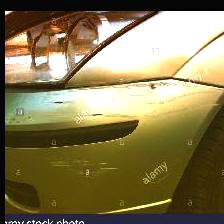bumper_scratch: (39, 77, 223, 143)
